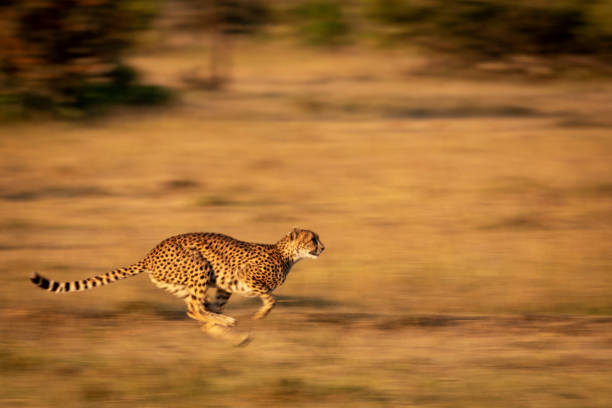cheetah: (274, 218, 332, 264)
